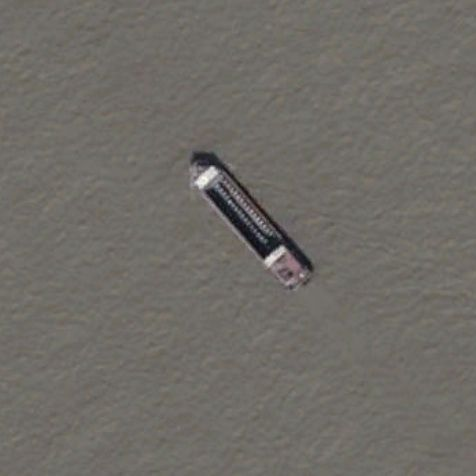boat: (185, 151, 317, 296)
